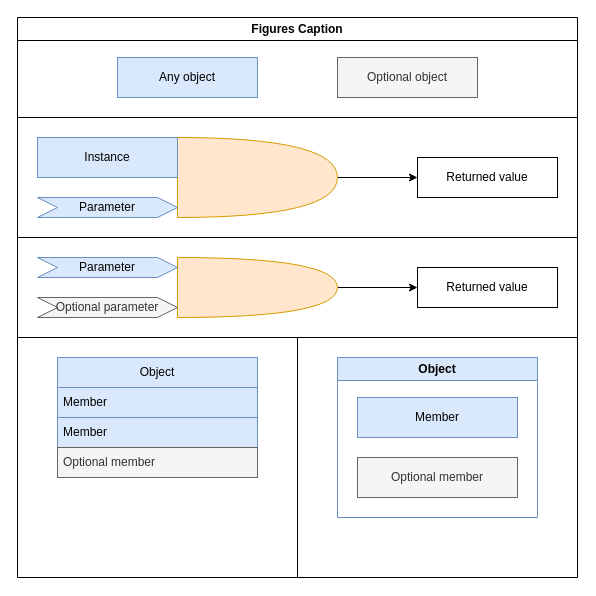
Image size: 596x596. Some labels were removed from this diagram. Each missing label, with the box of its shape:
Instance method: (176, 136, 338, 218)
Static method or function: (176, 256, 338, 318)
